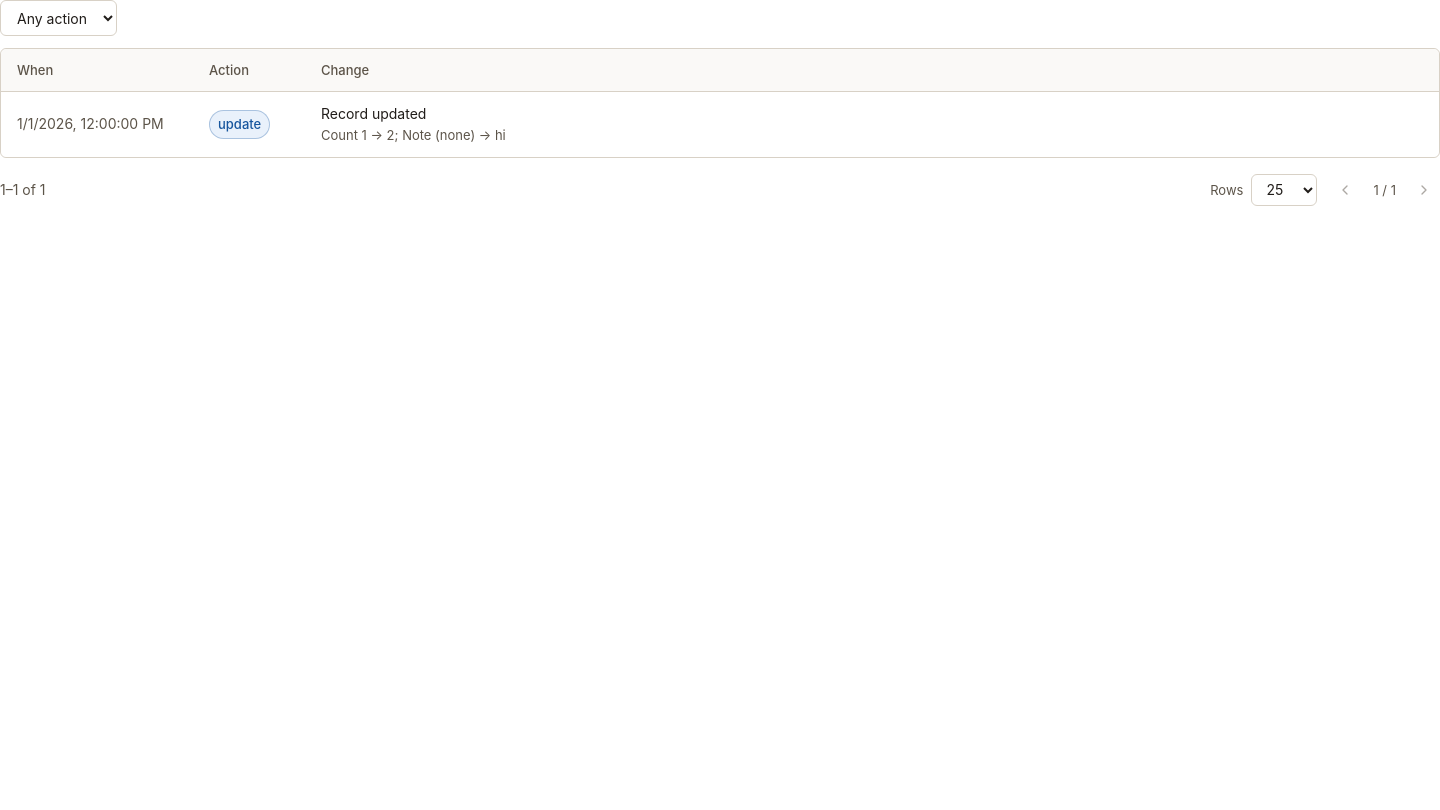
Test: AuditTrail › opens the entry in full when the row is clicked
Click the text "Record updated".
click(374, 114)  # box [321,105,426,122]
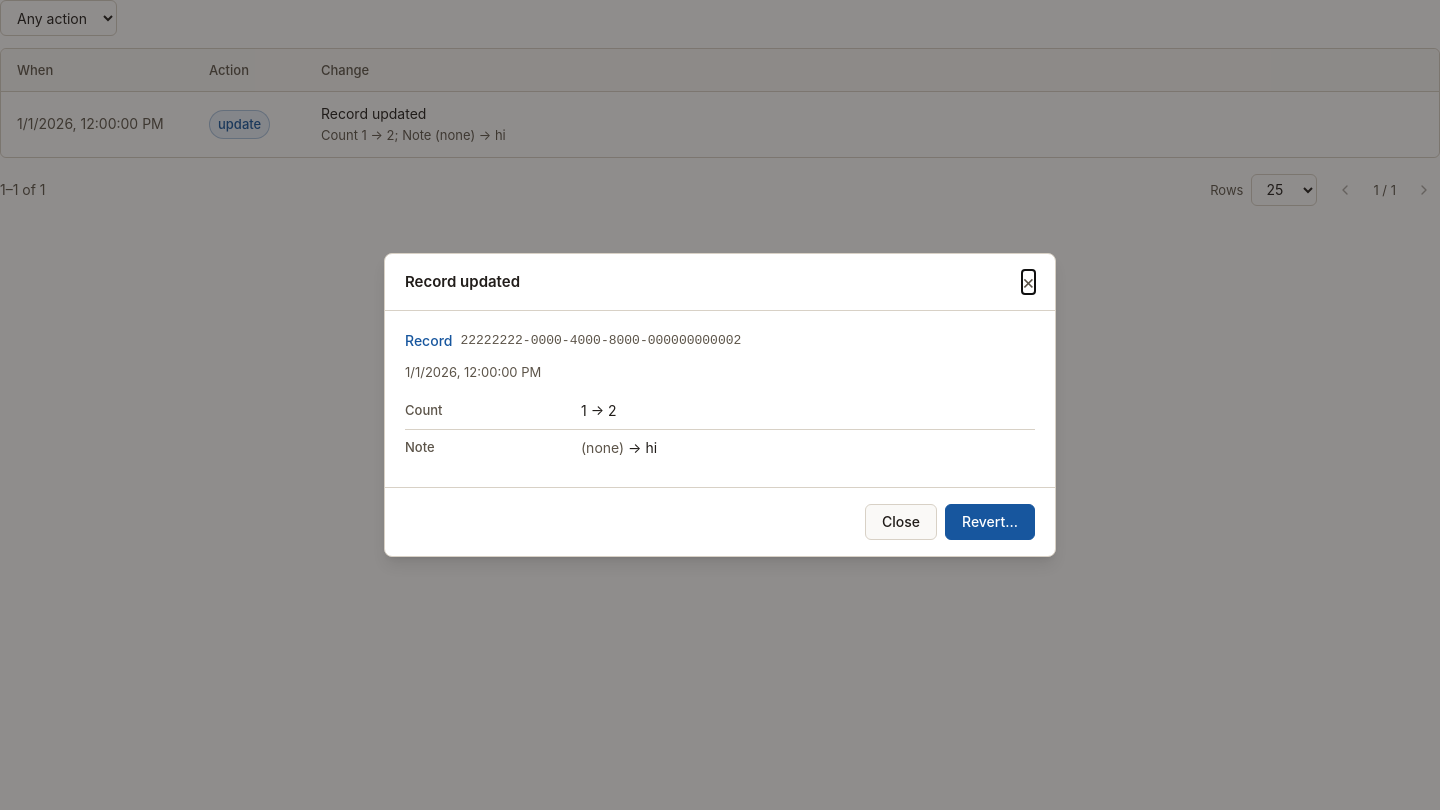
Now the dialog shows "Count", box [405,402,442,418]
Now the dialog shows "1 → 2", box [384,253,1056,557]
Now the dialog shows "(none) → hi", box [384,253,1056,557]
